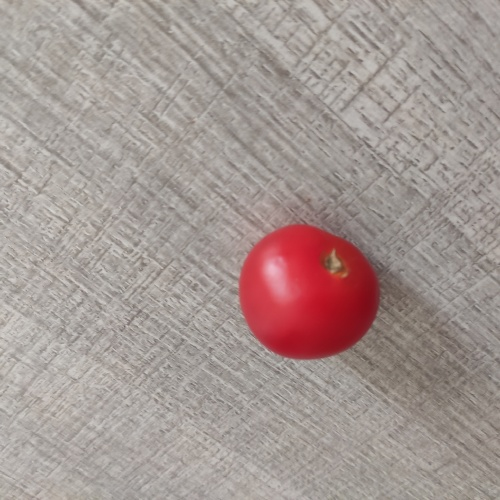pomodoro: (238, 221, 383, 369)
